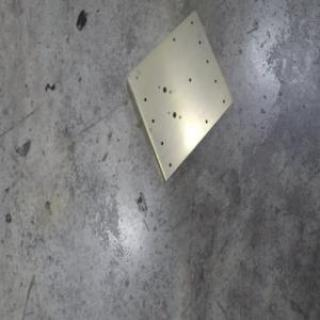MetalSheettrack_idkeyframe: (124, 8, 233, 185)
